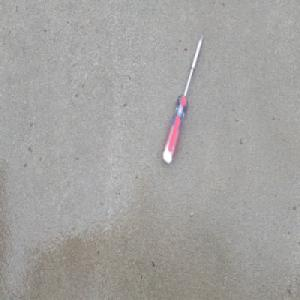Screwdriver: (161, 29, 204, 165)
